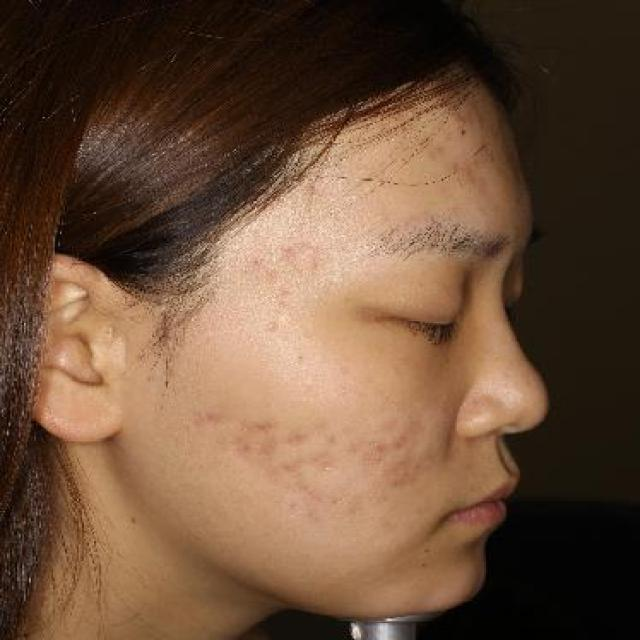blackheads: (414, 557, 435, 572), (419, 541, 436, 557)
papules: (250, 415, 279, 437)
